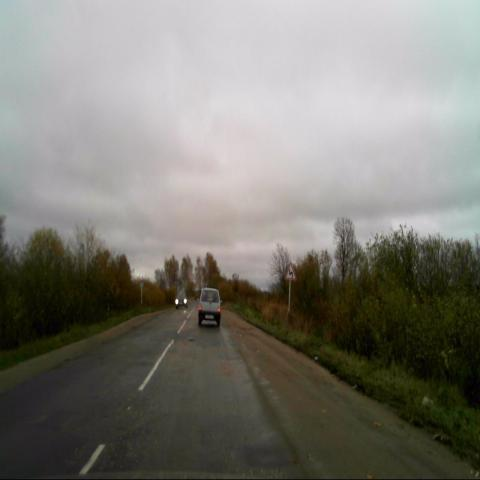1_12_2: (285, 260, 297, 281)
